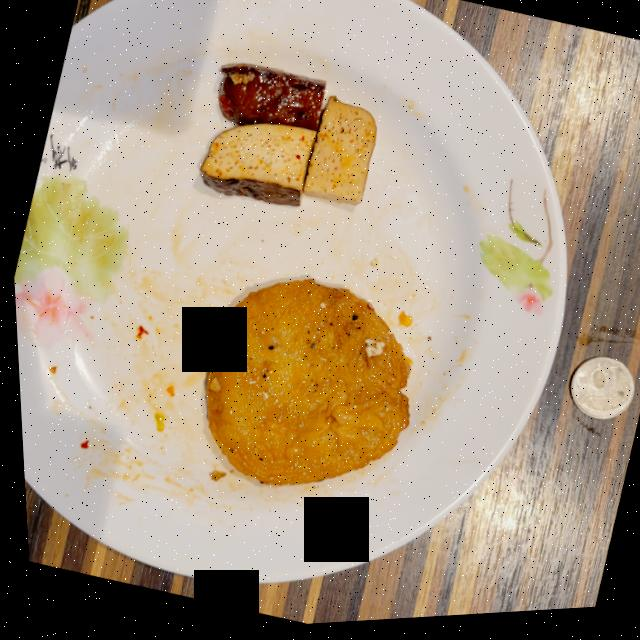coin: (565, 364, 629, 426)
fish cake: (201, 283, 406, 488)
pig liver: (198, 66, 374, 209)
